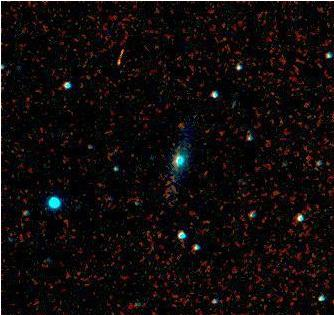star: (289, 89, 319, 119)
